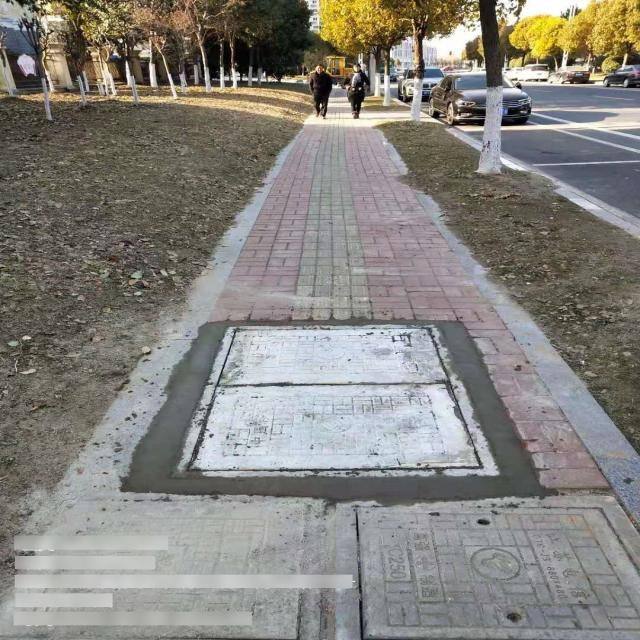Good: (172, 323, 502, 478), (346, 494, 640, 640)
